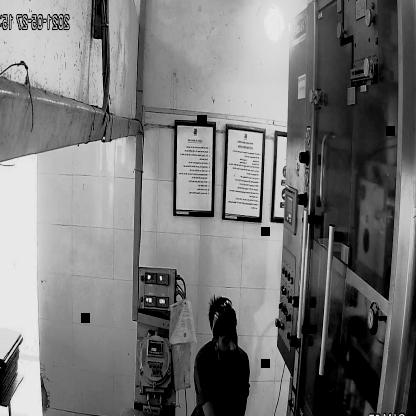no_goggles: (215, 325, 241, 348)
